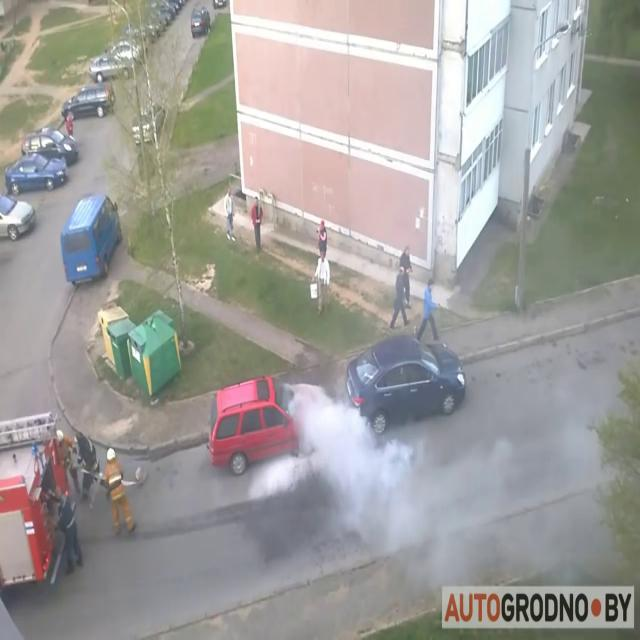Smoke: (269, 350, 639, 590), (270, 368, 412, 526)
